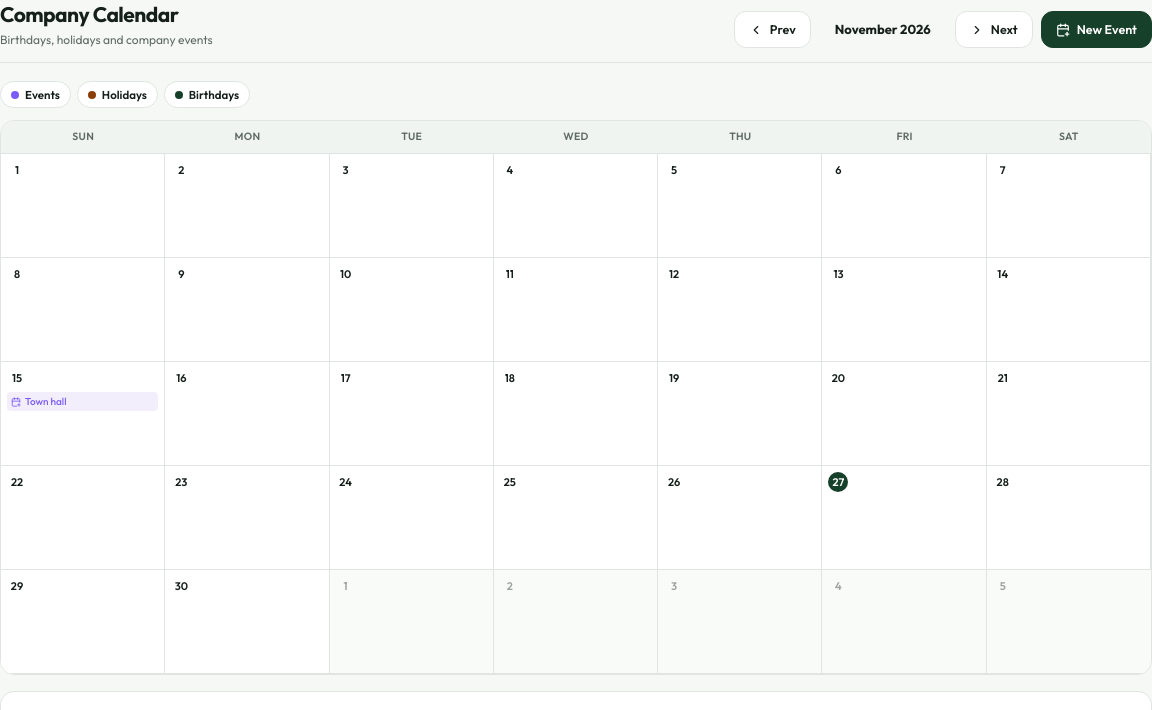
it: CompanyCalendar on phones › opens the new event form in a dialog that closes on Escape
This screenshot has width=1152, height=710.
Click the button "New Event" at (1096,30), box [1041,11,1151,48]
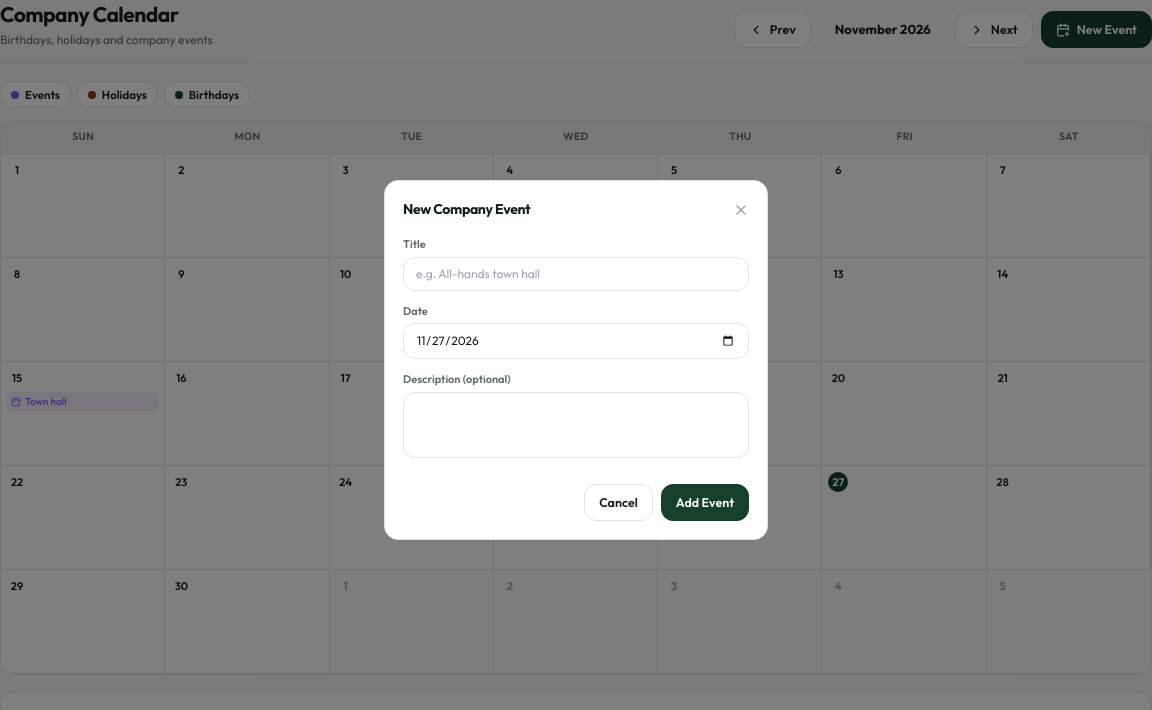
Result: the dialog "New Company Event" is shown at [384,180,768,540]
Press Escape
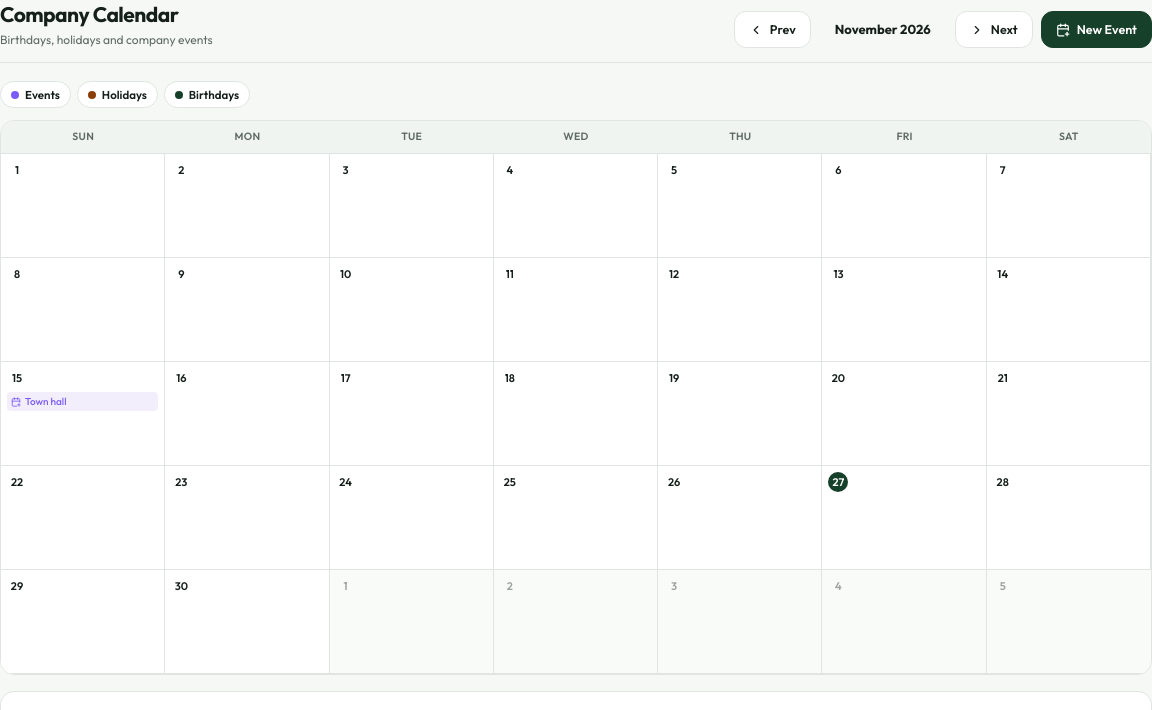
Result: the dialog is gone
